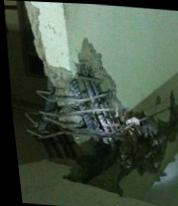crack: (147, 94, 165, 116)
damage: (24, 1, 178, 196)
